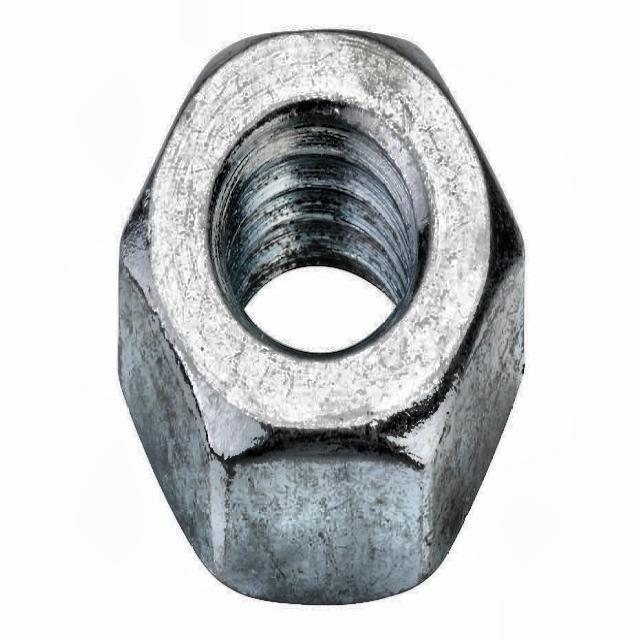Nut Detection - v1 Nut Dataset: (110, 29, 524, 605)
